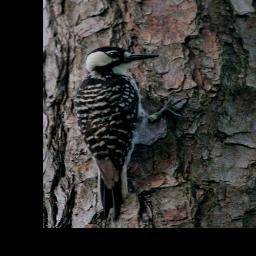Woodpecker: (68, 45, 194, 221)
